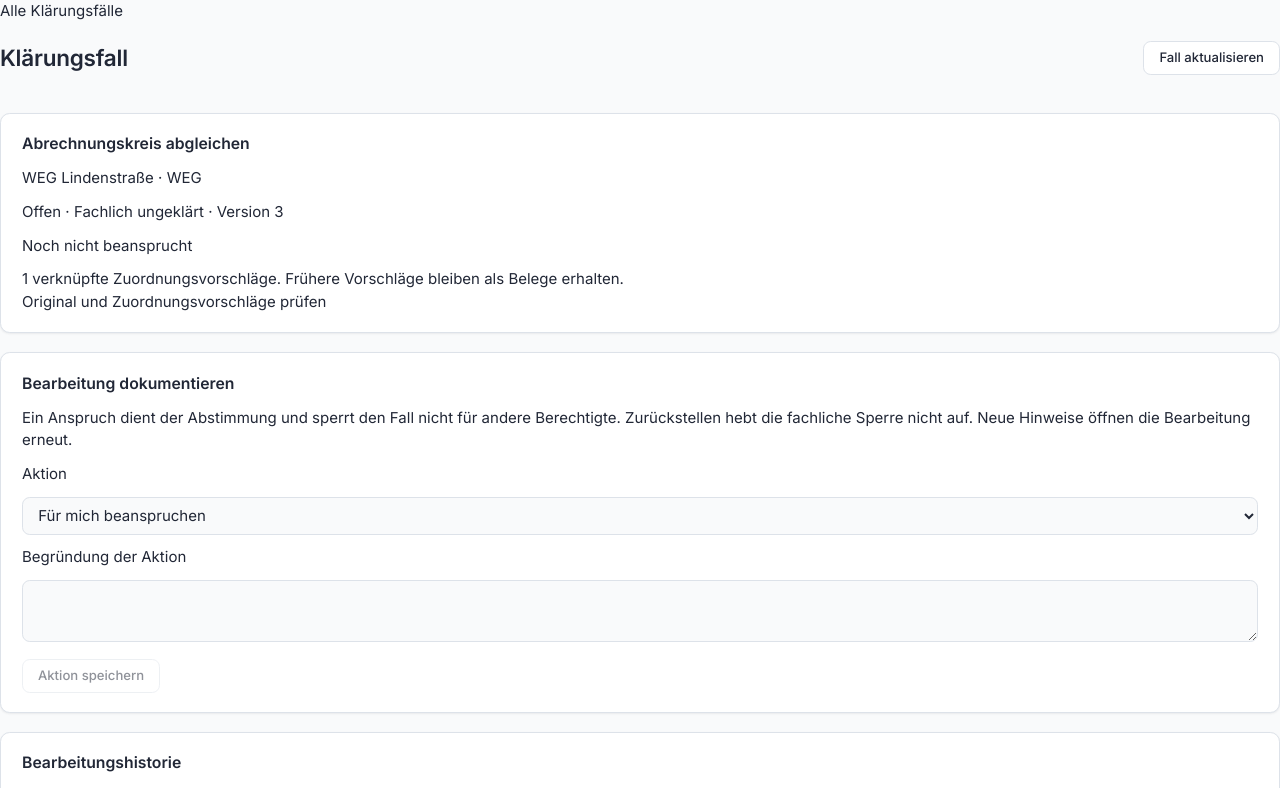
does not infer current state from a historical successful receipt
Type "Recorded work" into the text box labelled "Begründung der Aktion" at (640, 610), box [22,580,1258,642]
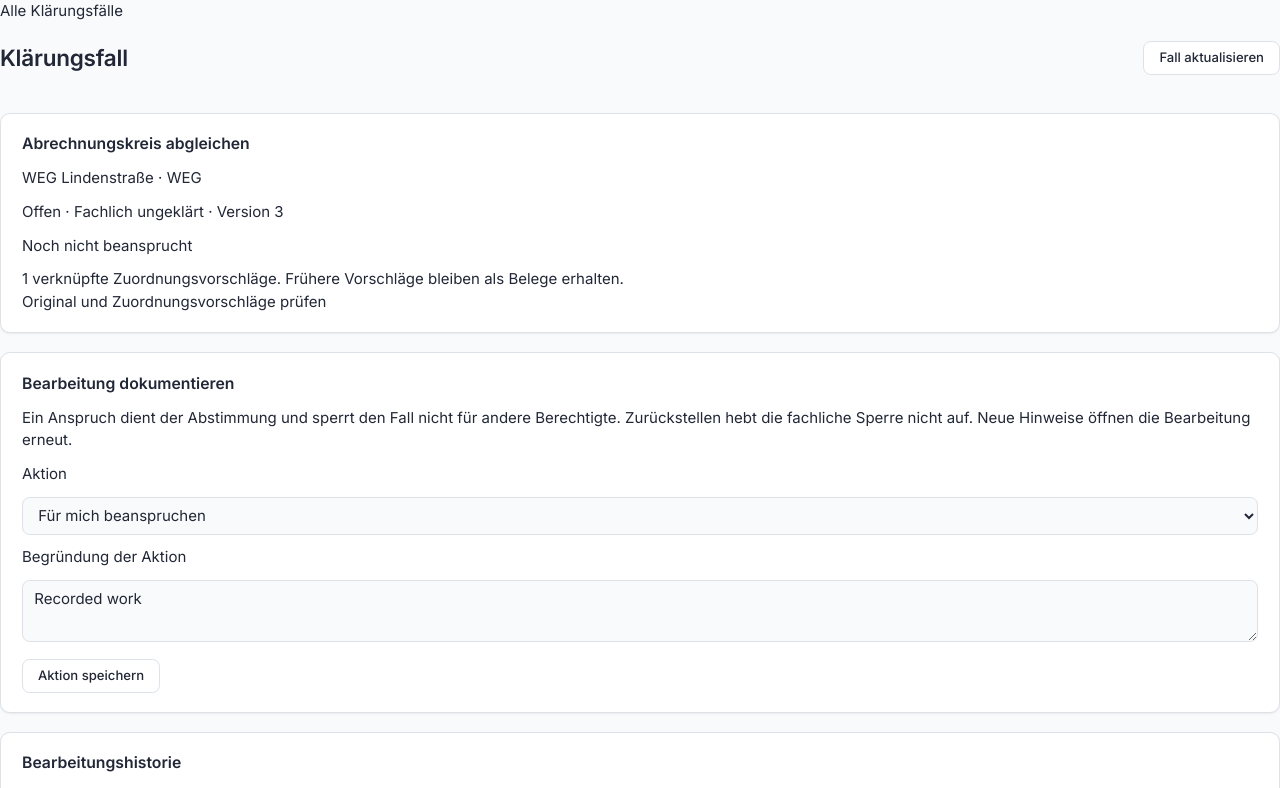
Click the button "Aktion speichern" at (91, 676), box [22,659,160,693]
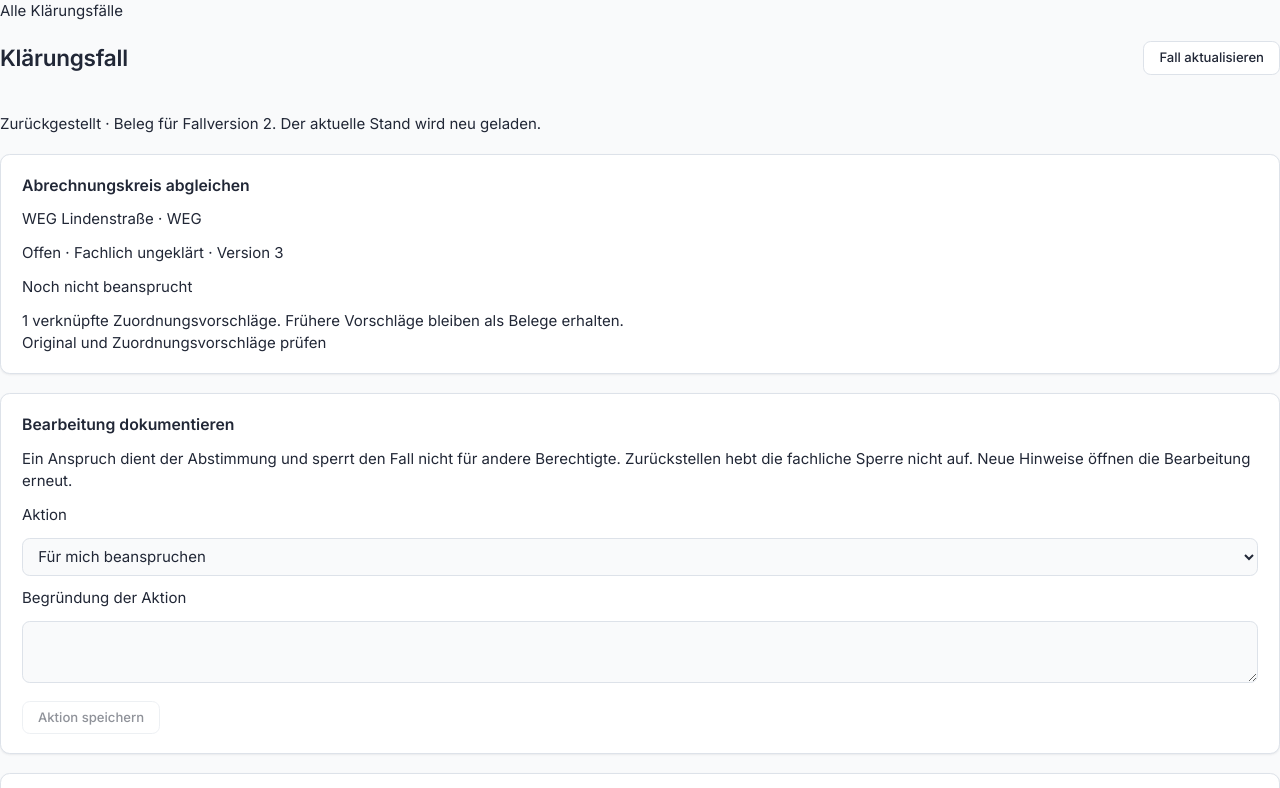
Check: the text "Offen · Fachlich ungeklärt · Version 3" is shown, box [22,243,284,262]
Check: the text "Zurückgestellt · Beleg für Fallversion 2. Der aktuelle Stand wird neu geladen." is shown, box [0,114,541,132]
